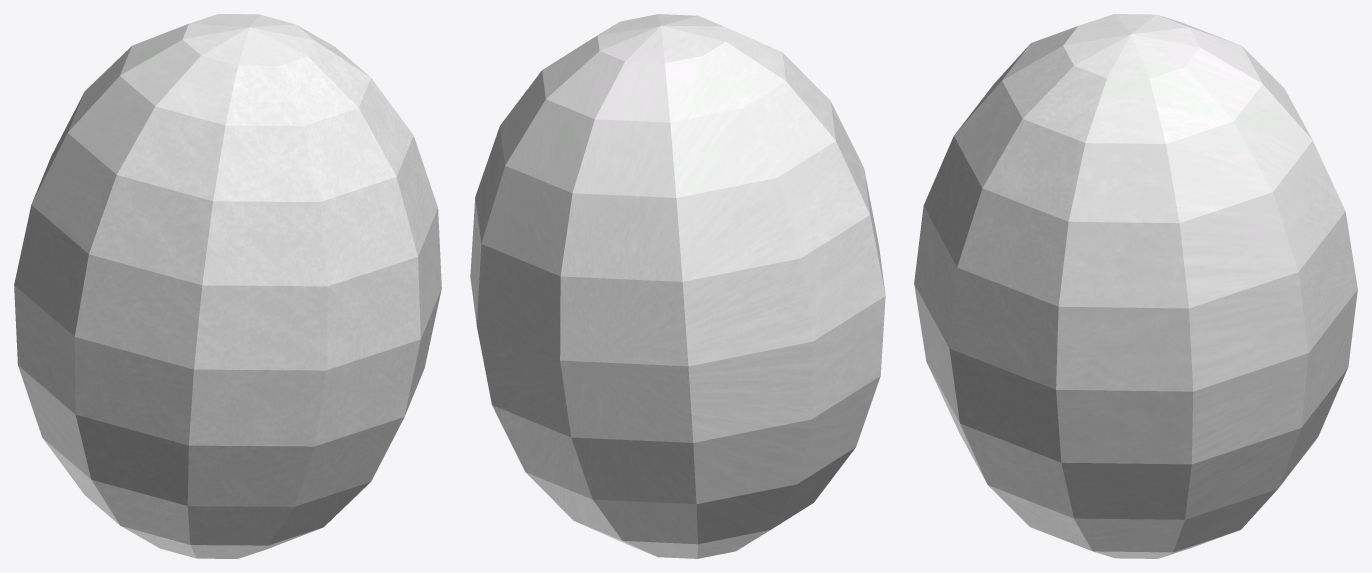
File: Eggs.fbx
3 views of the same model, side by side, from view 1: azimuth 30°, elevation 25°; view 2: azimuth 150°, elevation 25°; view 3: azimuth 270°, elevation 25° (orthographic). The views are drawn at different scales.
Parts seen in each view (by area): view 1: root; view 2: root; view 3: root.
Part boxes in pixels (box(x1,y1,x2,y2)): root: box(14, 14, 441, 558); root: box(470, 14, 885, 558); root: box(914, 14, 1357, 558).
Bounding box in the file's own units: 0.3779 × 0.5103 × 0.3916.
1 material, 1 textured.
